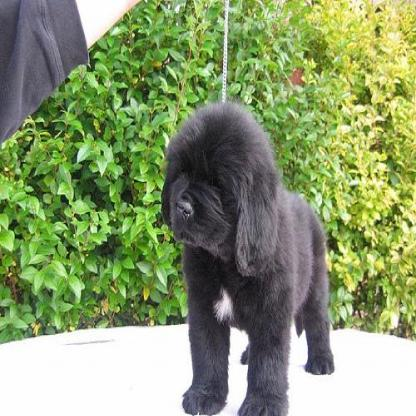Newfoundland: (158, 98, 334, 414)
